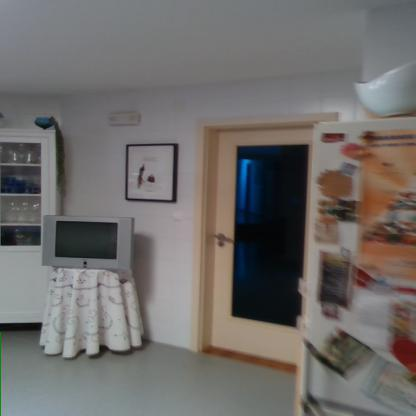door: (214, 130, 305, 360)
lever: (215, 235, 235, 245)
